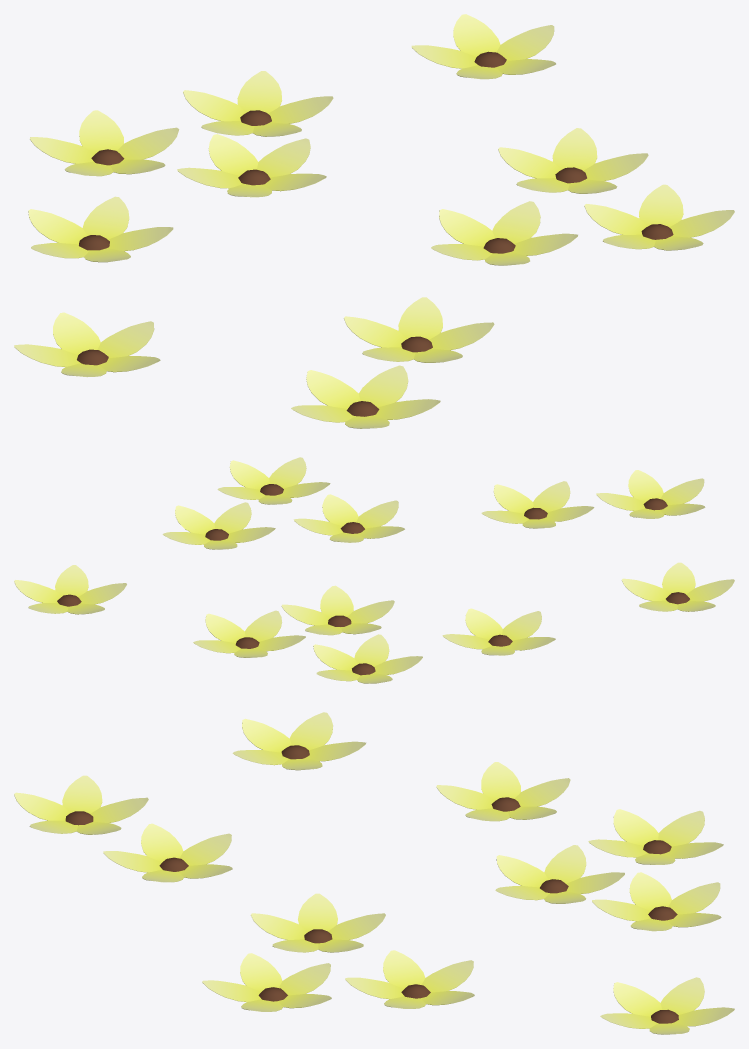
File: Yellow_Patch.fbx
3 renders of one model, top to bottom at view 1: azimuth 30°, elevation 25°; view 2: azimuth 150°, elevation 25°; view 3: azimuth 270°, elevation 25°, orthographic. The views are drawn at different scales.
Visible parts, largest first — view 1: pasted__pasted__pasted__Flower8, pasted__pasted__pasted__Flower14, pasted__pasted__pasted__Flower11, pasted__pasted__pasted__Flower16, pasted__pasted__pasted__Flower9, pasted__pasted__pasted__Flower10, pasted__pasted__pasted__Flower13, pasted__pasted__pasted__Flower12, pasted__pasted__pasted__Flower15, pasted__pasted__pasted__Flower7, pasted__pasted__pasted__Flower17; view 2: pasted__pasted__pasted__Flower17, pasted__pasted__pasted__Flower13, pasted__pasted__pasted__Flower9, pasted__pasted__pasted__Flower7, pasted__pasted__pasted__Flower16, pasted__pasted__pasted__Flower11, pasted__pasted__pasted__Flower15, pasted__pasted__pasted__Flower8, pasted__pasted__pasted__Flower14, pasted__pasted__pasted__Flower12, pasted__pasted__pasted__Flower10; view 3: pasted__pasted__pasted__Flower7, pasted__pasted__pasted__Flower9, pasted__pasted__pasted__Flower15, pasted__pasted__pasted__Flower13, pasted__pasted__pasted__Flower14, pasted__pasted__pasted__Flower16, pasted__pasted__pasted__Flower11, pasted__pasted__pasted__Flower10, pasted__pasted__pasted__Flower8, pasted__pasted__pasted__Flower12, pasted__pasted__pasted__Flower17.
Boxes of the visible parts, x1,y1,x2,y2 form: pasted__pasted__pasted__Flower8: [177, 134, 326, 197]; pasted__pasted__pasted__Flower14: [291, 365, 440, 428]; pasted__pasted__pasted__Flower11: [431, 201, 577, 265]; pasted__pasted__pasted__Flower16: [28, 196, 173, 262]; pasted__pasted__pasted__Flower9: [183, 71, 333, 136]; pasted__pasted__pasted__Flower10: [584, 184, 734, 250]; pasted__pasted__pasted__Flower13: [411, 14, 555, 79]; pasted__pasted__pasted__Flower12: [498, 128, 648, 193]; pasted__pasted__pasted__Flower15: [344, 297, 494, 362]; pasted__pasted__pasted__Flower7: [30, 110, 179, 176]; pasted__pasted__pasted__Flower17: [14, 312, 160, 377]; pasted__pasted__pasted__Flower17: [621, 562, 734, 611]; pasted__pasted__pasted__Flower13: [14, 565, 126, 614]; pasted__pasted__pasted__Flower9: [193, 610, 305, 657]; pasted__pasted__pasted__Flower7: [313, 634, 422, 683]; pasted__pasted__pasted__Flower16: [442, 608, 555, 655]; pasted__pasted__pasted__Flower11: [293, 494, 404, 542]; pasted__pasted__pasted__Flower15: [481, 481, 594, 528]; pasted__pasted__pasted__Flower8: [281, 585, 394, 635]; pasted__pasted__pasted__Flower14: [596, 470, 705, 518]; pasted__pasted__pasted__Flower12: [162, 502, 275, 549]; pasted__pasted__pasted__Flower10: [217, 457, 330, 504]; pasted__pasted__pasted__Flower7: [588, 809, 723, 864]; pasted__pasted__pasted__Flower9: [592, 872, 721, 931]; pasted__pasted__pasted__Flower15: [103, 823, 232, 882]; pasted__pasted__pasted__Flower13: [600, 977, 734, 1034]; pasted__pasted__pasted__Flower14: [14, 775, 148, 834]; pasted__pasted__pasted__Flower16: [436, 762, 570, 821]; pasted__pasted__pasted__Flower11: [251, 893, 385, 952]; pasted__pasted__pasted__Flower10: [202, 953, 331, 1011]; pasted__pasted__pasted__Flower8: [495, 845, 624, 903]; pasted__pasted__pasted__Flower12: [345, 950, 474, 1008]; pasted__pasted__pasted__Flower17: [232, 712, 365, 770].
Bounding box in the file's own units: 67.67 × 1.41 × 64.1.
